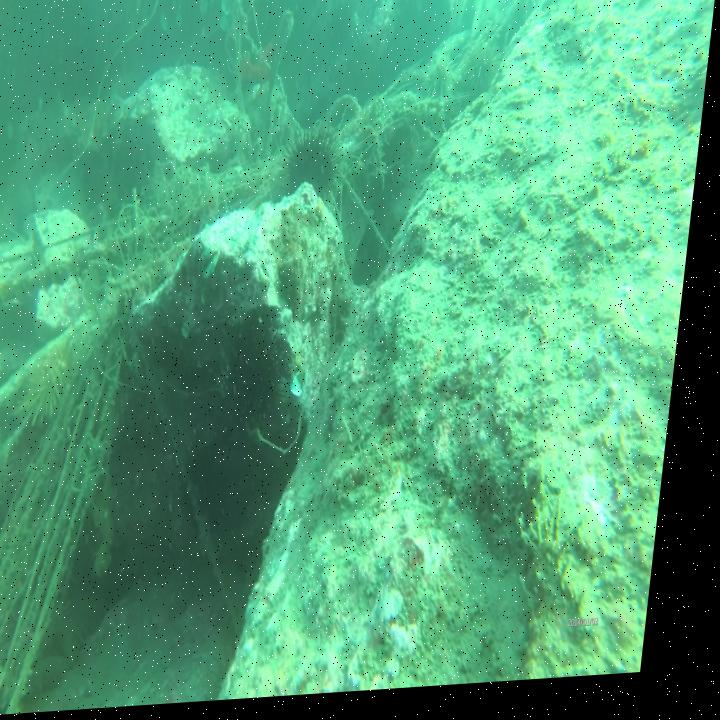echinus: (287, 132, 348, 213), (29, 351, 83, 431), (0, 428, 24, 545)
